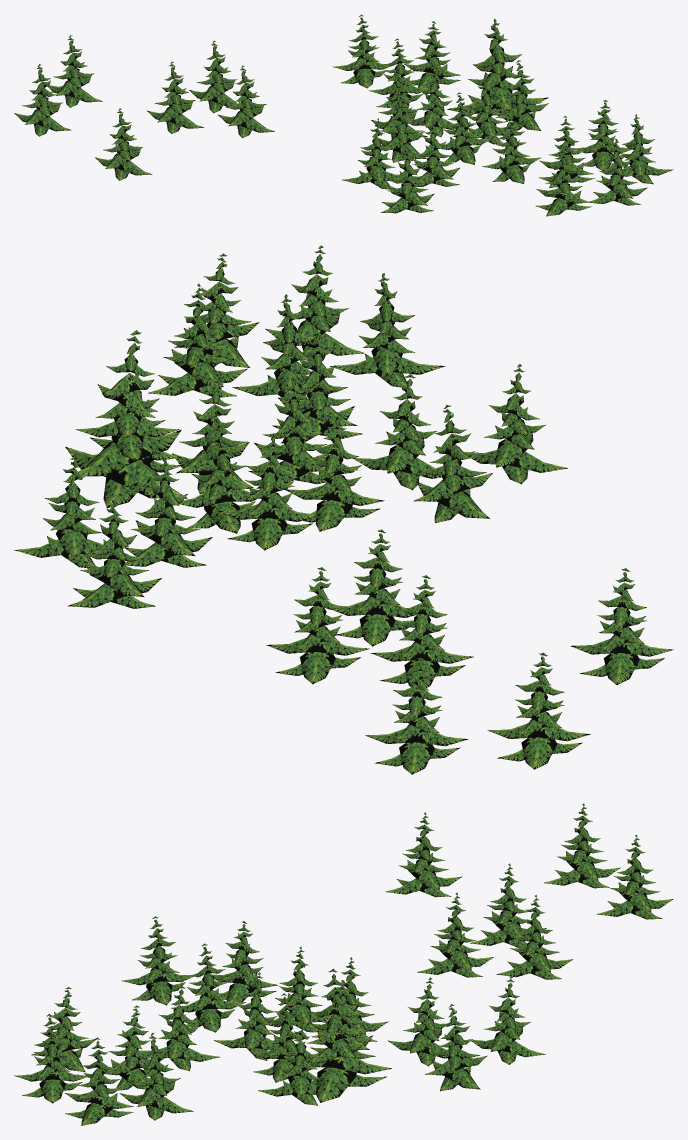
File: Green_elka.fbx
3 renders of one model, top to bottom at view 1: azimuth 30°, elevation 25°; view 2: azimuth 150°, elevation 25°; view 3: azimuth 270°, elevation 25°, orthographic. The views are drawn at different scales.
Parts seen in each view (by area): view 1: Object_6; view 2: Object_6; view 3: Object_6.
Part boxes in pixels (x1,y1,x2,y2): Object_6: (14, 14, 673, 216); Object_6: (14, 245, 673, 774); Object_6: (14, 803, 673, 1125).
Bounding box in the file's own units: 1189 × 249 × 1250.
1 material, 1 textured.
